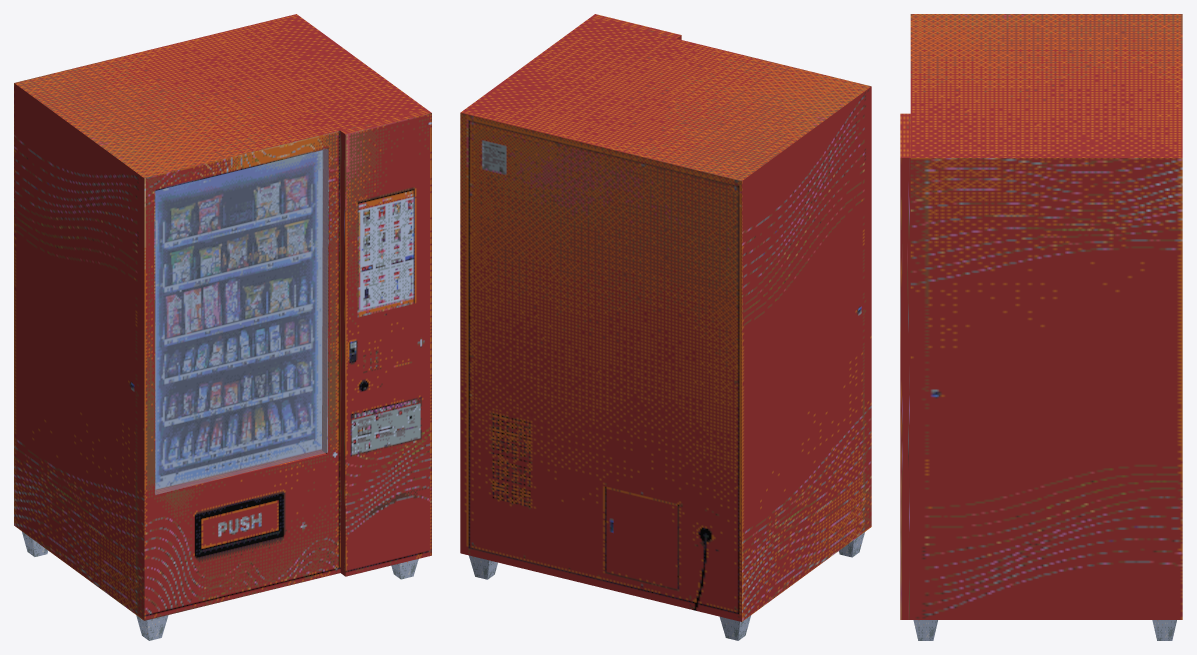
The model's file is vending_machine.glb.
3 renders of one model, left to right at view 1: azimuth 30°, elevation 25°; view 2: azimuth 150°, elevation 25°; view 3: azimuth 270°, elevation 25°, orthographic. The views are drawn at different scales.
Visible parts, largest first — view 1: pCube30; view 2: pCube30; view 3: pCube30.
Boxes of the visible parts, x1,y1,x2,y2 form: pCube30: (14,14,431,640); pCube30: (460,14,871,640); pCube30: (900,14,1182,640).
Bounding box in the file's own units: 1.2 × 1.9 × 0.9971.
3 materials, 2 textured.
